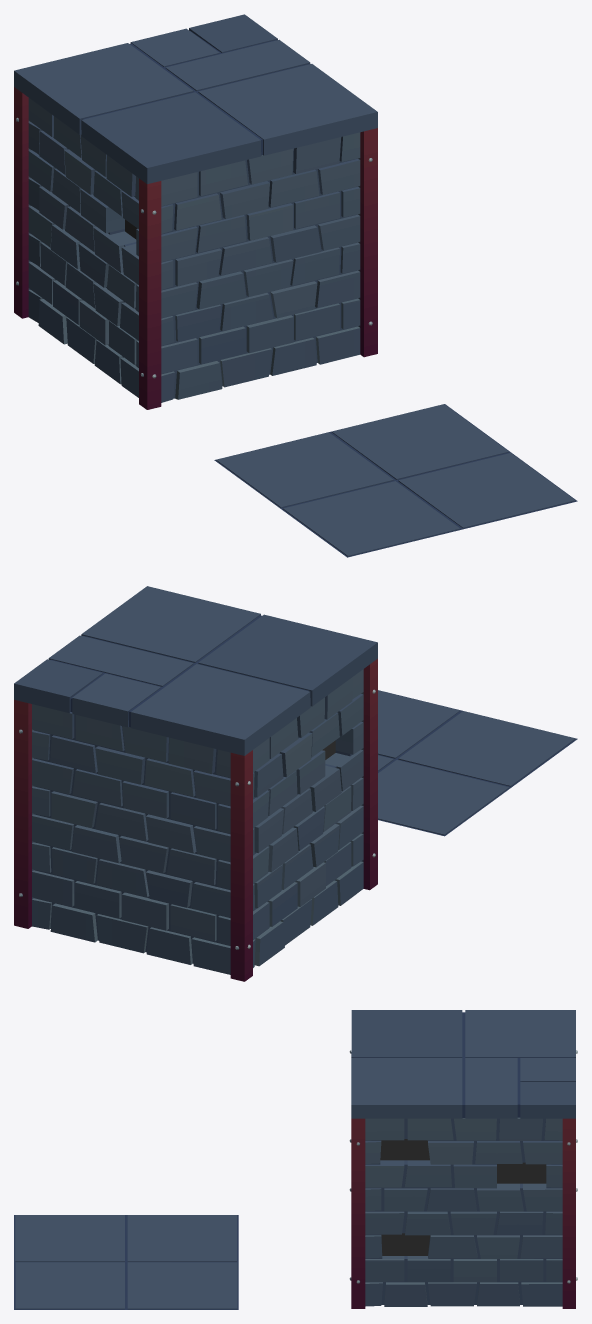
The model's file is fbx-castle.tile.fbx.
The picture shows the model from 3 angles, top to bottom: view 1: azimuth 30°, elevation 25°; view 2: azimuth 150°, elevation 25°; view 3: azimuth 270°, elevation 25°; orthographic projection. The views are drawn at different scales.
Parts seen in each view (by area): view 1: mesh-walls, mesh-walls-big; view 2: mesh-walls, mesh-walls-big; view 3: mesh-walls, mesh-walls-big.
Part boxes in pixels (x1,y1,x2,y2): mesh-walls: [14, 14, 377, 409]; mesh-walls-big: [214, 404, 577, 557]; mesh-walls: [14, 586, 377, 981]; mesh-walls-big: [378, 690, 577, 836]; mesh-walls: [349, 1010, 577, 1308]; mesh-walls-big: [14, 1215, 238, 1309].
Bounding box in the file's own units: 407 × 403 × 1005.
